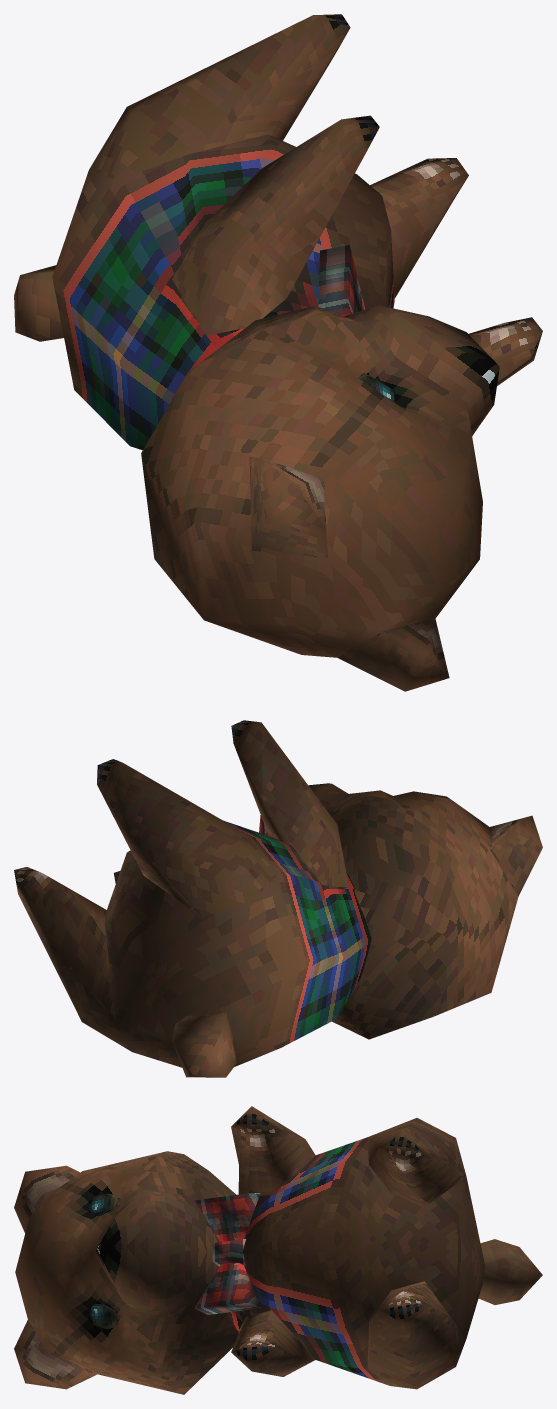
The picture shows the model from 3 angles, top to bottom: view 1: azimuth 30°, elevation 25°; view 2: azimuth 150°, elevation 25°; view 3: azimuth 270°, elevation 25°; orthographic projection. The views are drawn at different scales.
Size of the model in its own units: 101 by 90.75 by 142.
Materials: 1 (1 with a texture image).
